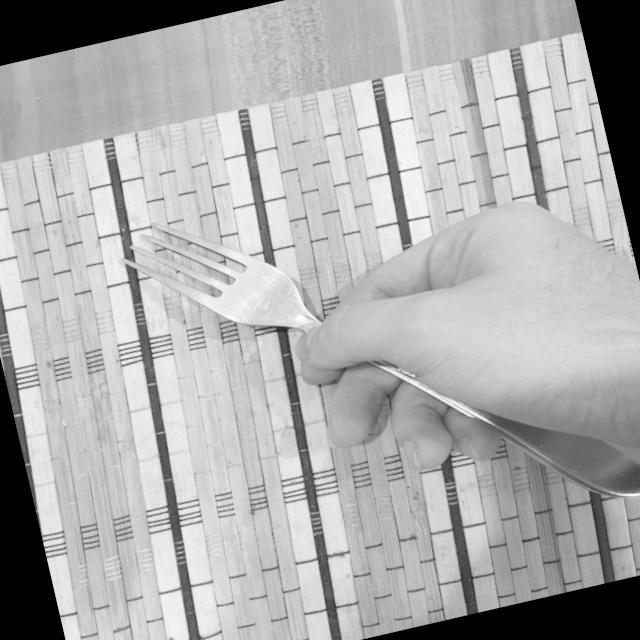fork: (110, 122, 640, 603)
